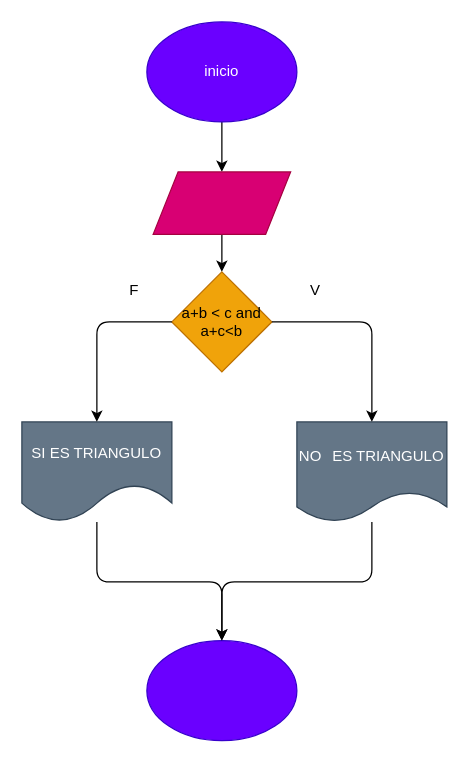
The diagram is 469 pixels wide and 763 high, and some of its shapes have lost their labels. Here are the shapes that lost their labels. From the top down, the centre of each, then its label:
(221,202): a,b,c
(221,690): fin
